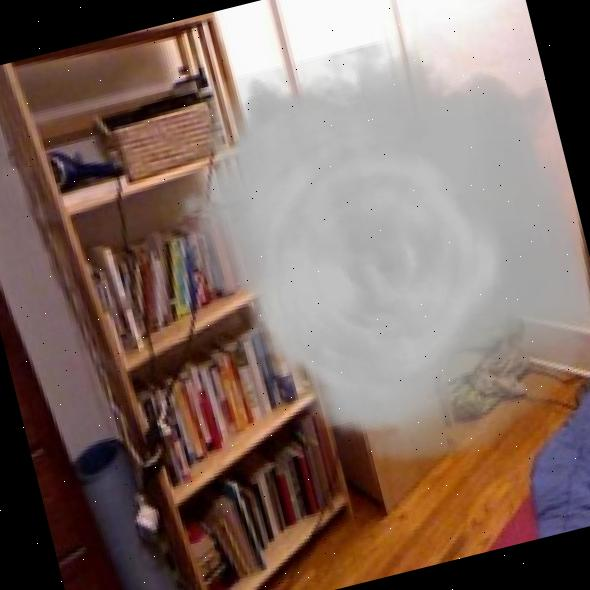smoke: (132, 3, 590, 512)
